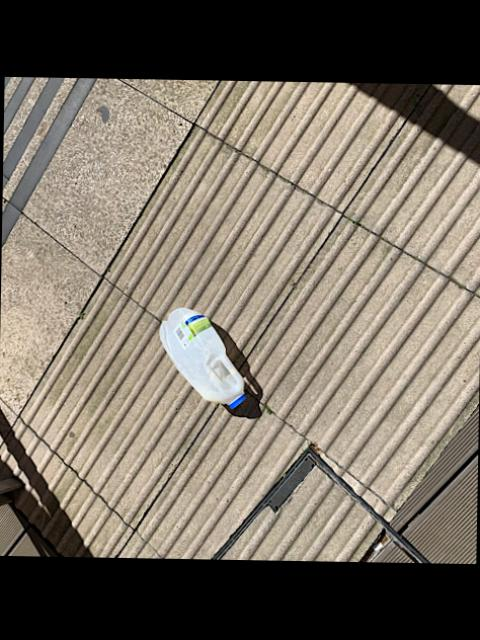plastic: (159, 308, 243, 406)
